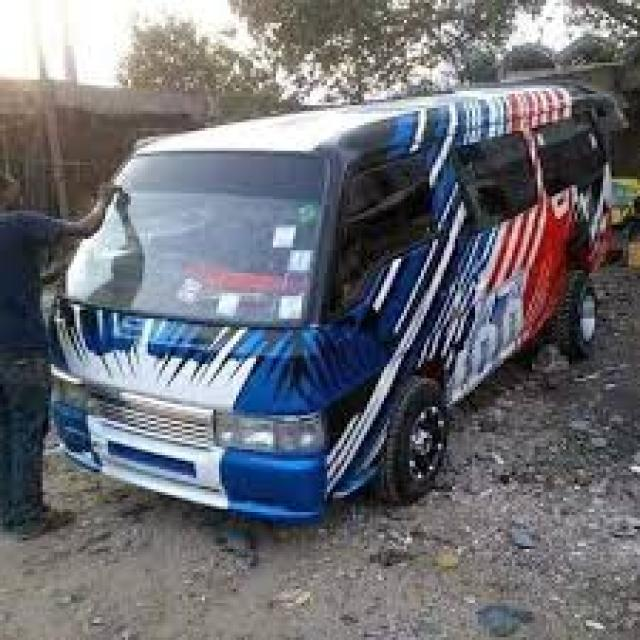matatu: (16, 40, 640, 555)
